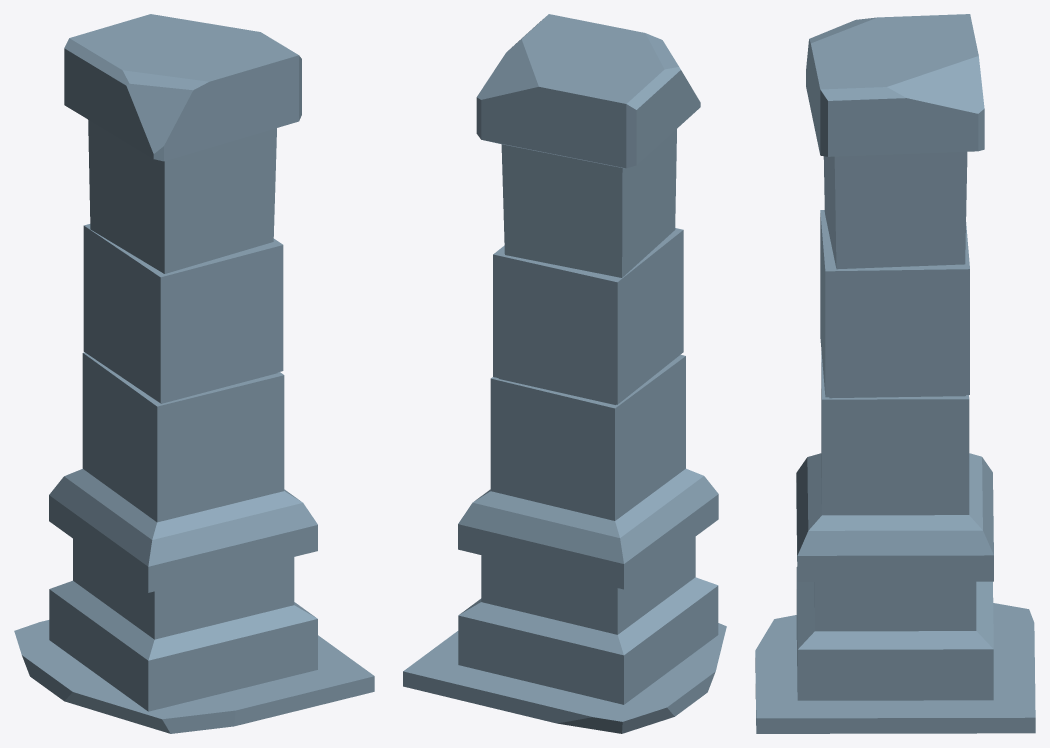
Rendered from stolb3.fbx.
3 views of the same model, side by side, from view 1: azimuth 30°, elevation 25°; view 2: azimuth 150°, elevation 25°; view 3: azimuth 270°, elevation 25° (orthographic). The views are drawn at different scales.
Visible parts, largest first — view 1: Circle.038; view 2: Circle.038; view 3: Circle.038.
Boxes of the visible parts, x1=… form: Circle.038: x1=14, y1=14, x2=374, y2=733; Circle.038: x1=403, y1=14, x2=726, y2=733; Circle.038: x1=755, y1=14, x2=1035, y2=733.
Bounding box in the file's own units: 220 × 540 × 220.
